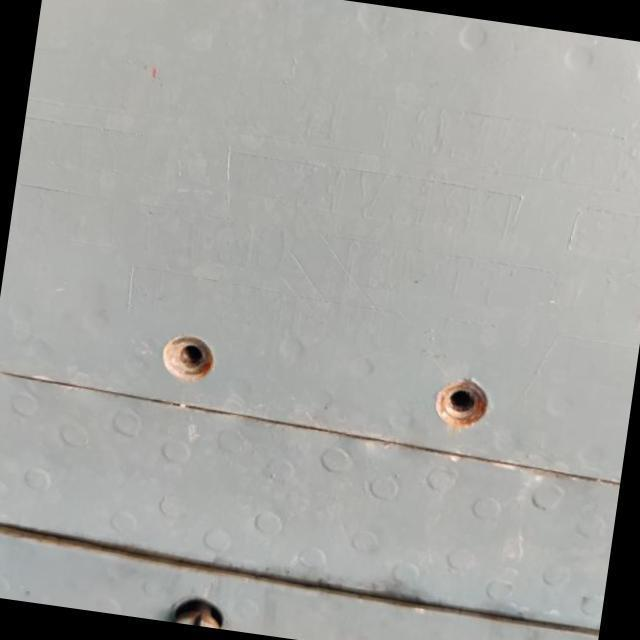Fastener Damage: (388, 338, 528, 472), (128, 301, 248, 422)
